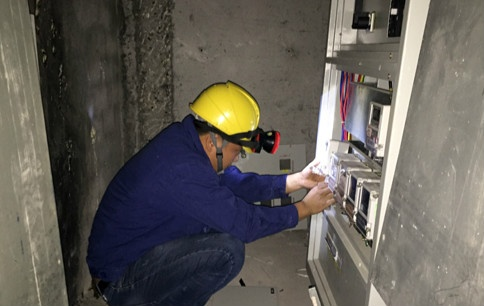yellow: (186, 80, 262, 173)
